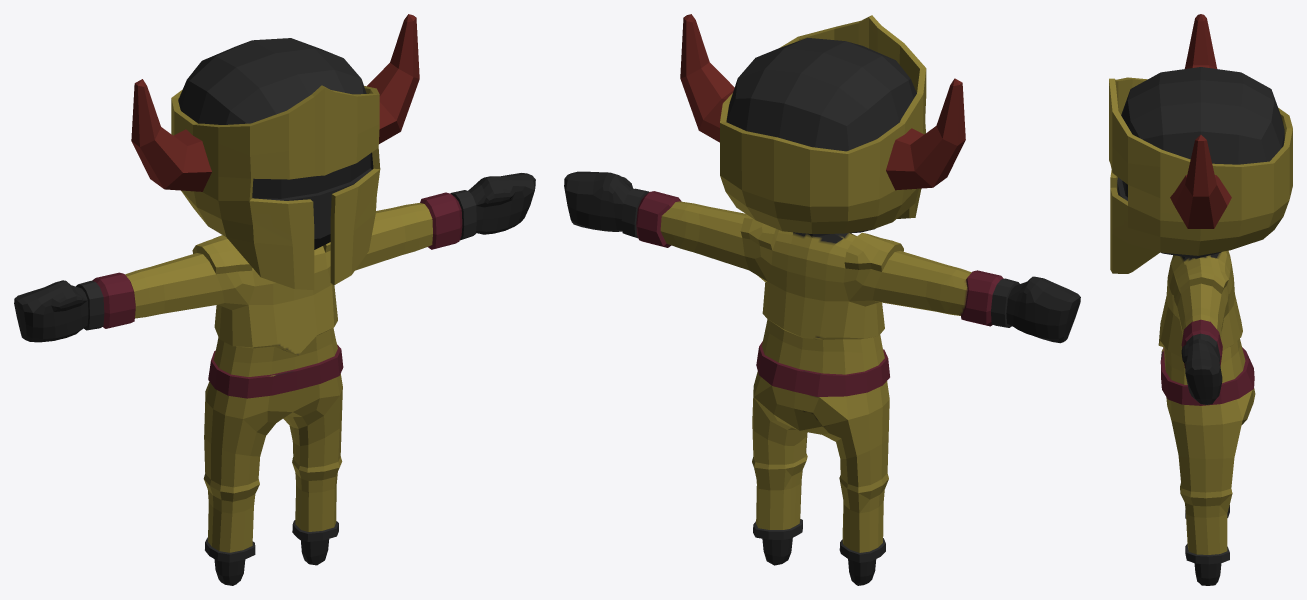
The model's file is Knight_Golden_Male.fbx.
3 renders of one model, left to right at view 1: azimuth 30°, elevation 25°; view 2: azimuth 150°, elevation 25°; view 3: azimuth 270°, elevation 25°, orthographic. The views are drawn at different scales.
Parts seen in each view (by area): view 1: Body; view 2: Body; view 3: Body.
Boxes of the visible parts, left/top/right/bottom form: Body: left=14, top=14, right=535, bottom=585; Body: left=564, top=14, right=1080, bottom=585; Body: left=1109, top=14, right=1292, bottom=585.
Size of the model in its own units: 324 by 319 by 108.
1 material, 1 textured.
